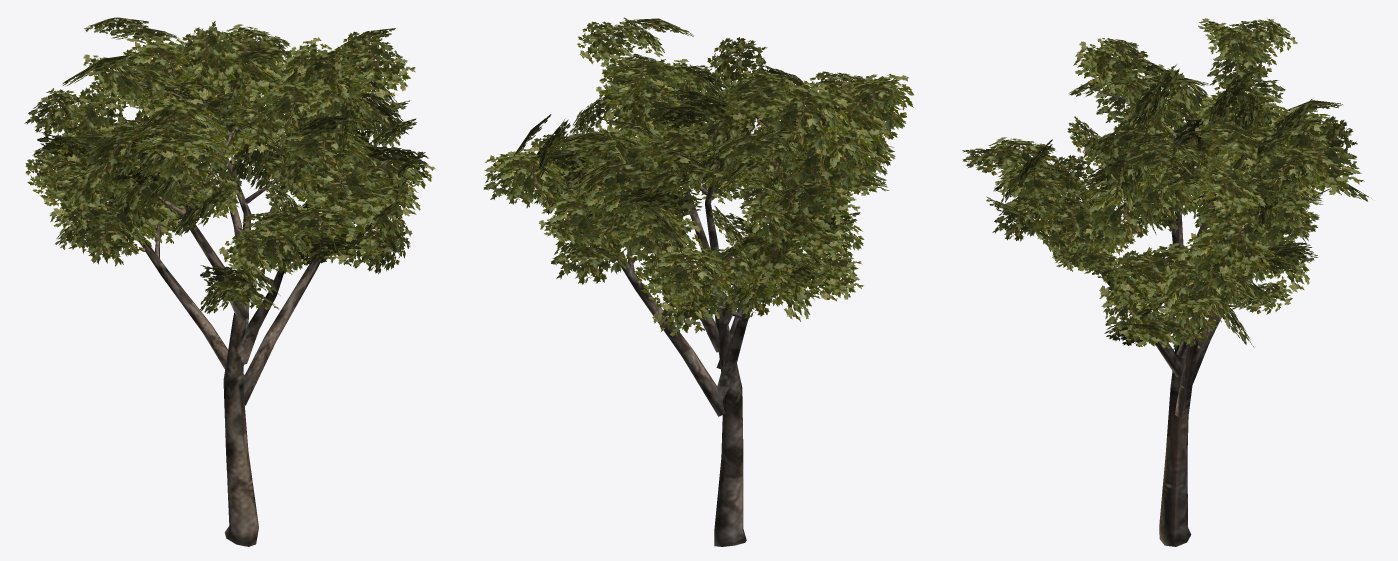
File: sycamore-distant.glb
3 views of the same model, side by side, from view 1: azimuth 30°, elevation 25°; view 2: azimuth 150°, elevation 25°; view 3: azimuth 270°, elevation 25° (orthographic). The views are drawn at different scales.
Visible parts, largest first — view 1: Frame; view 2: Frame; view 3: Frame.
Boxes of the visible parts, x1,y1,x2,y2 form: Frame: (24,17,435,546); Frame: (483,17,913,546); Frame: (962,18,1371,546).
Bounding box in the file's own units: 6.07 × 7.71 × 6.24.
2 materials, 2 textured.
